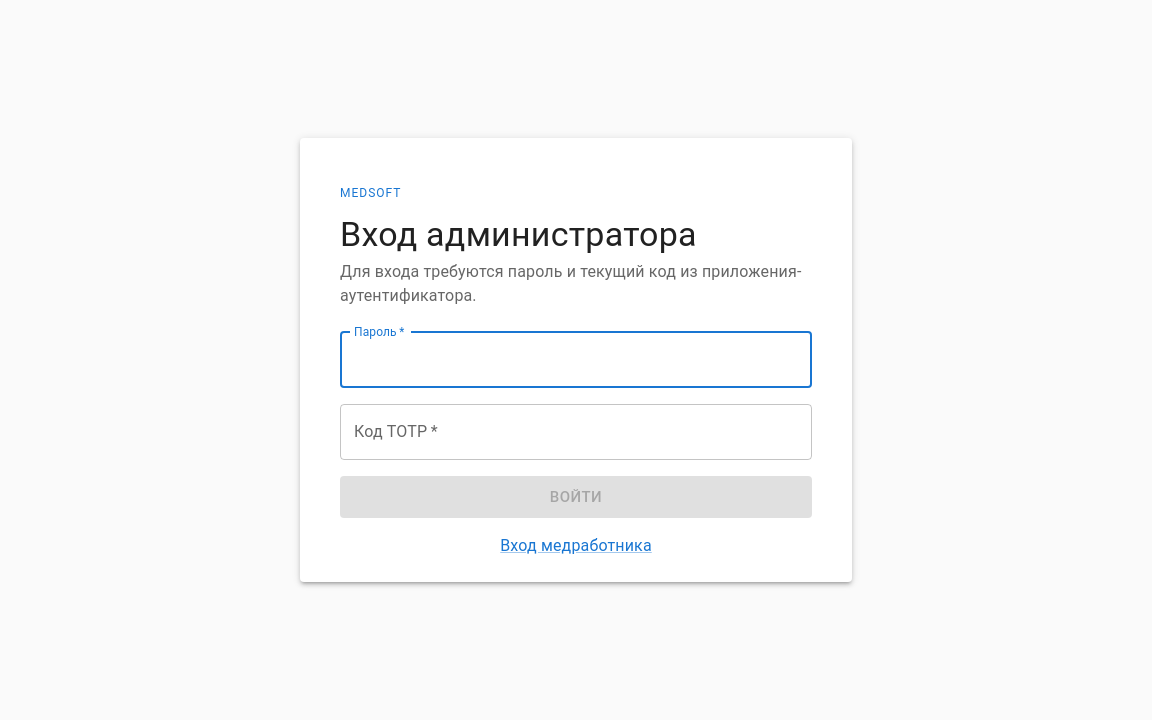
Scenario: authentication interfaces › logs an administrator in only with password and TOTP
In the password field labelled "Пароль *": (576, 360) [340,332,812,388], type "password"
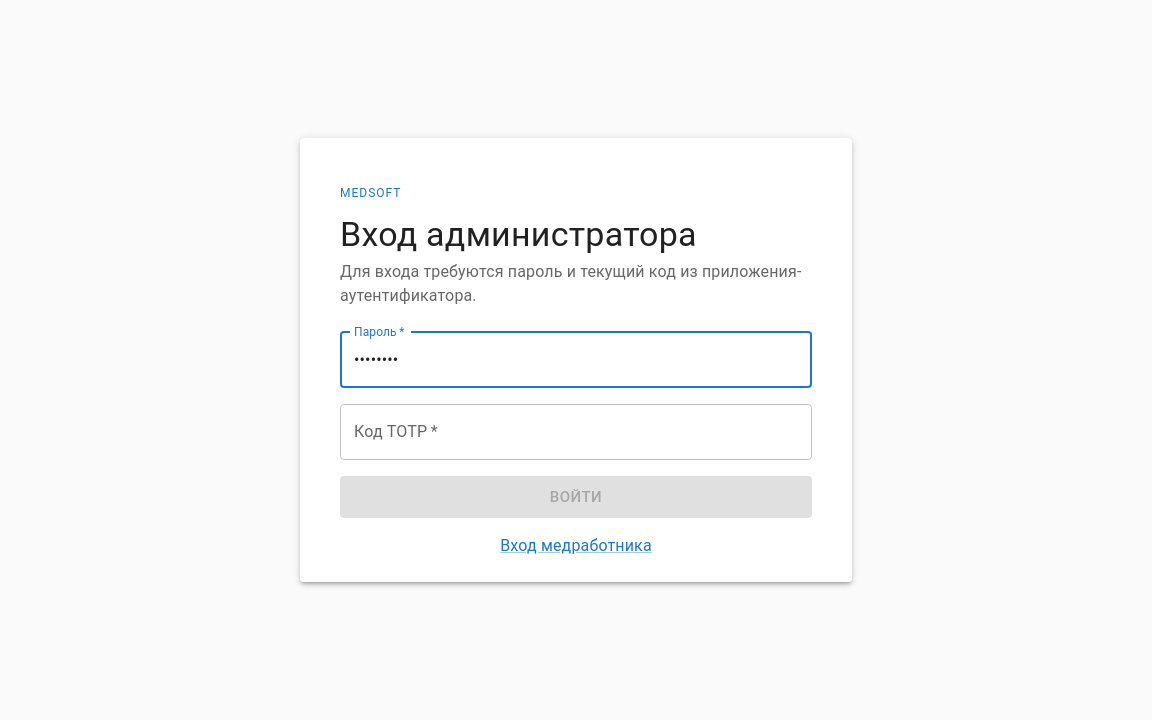
In the field labelled "Код TOTP *": (576, 432) [340,404,812,460], type "000000"
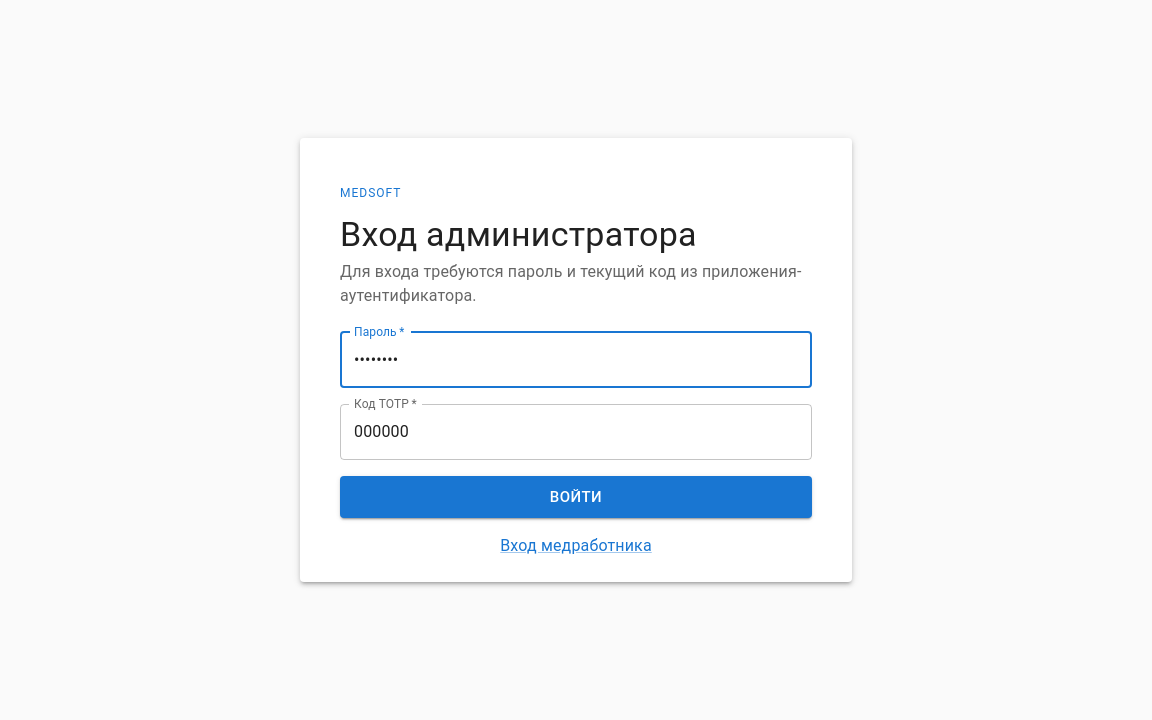
Click the button "Войти": (576, 497) [340,476,812,518]
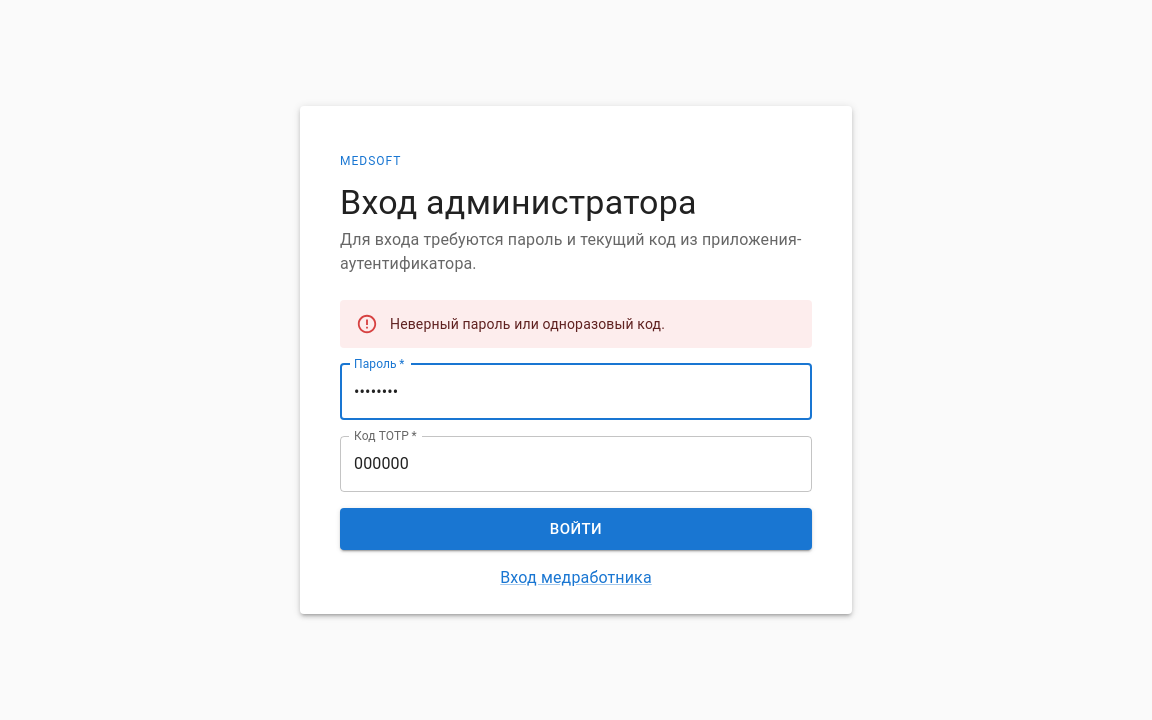
Check: the text "Неверный пароль или одноразовый код." is shown, box [390,316,665,332]
Replace the text in the field labelled "Код TOTP *" with "123456": (576, 464) [340,436,812,492]
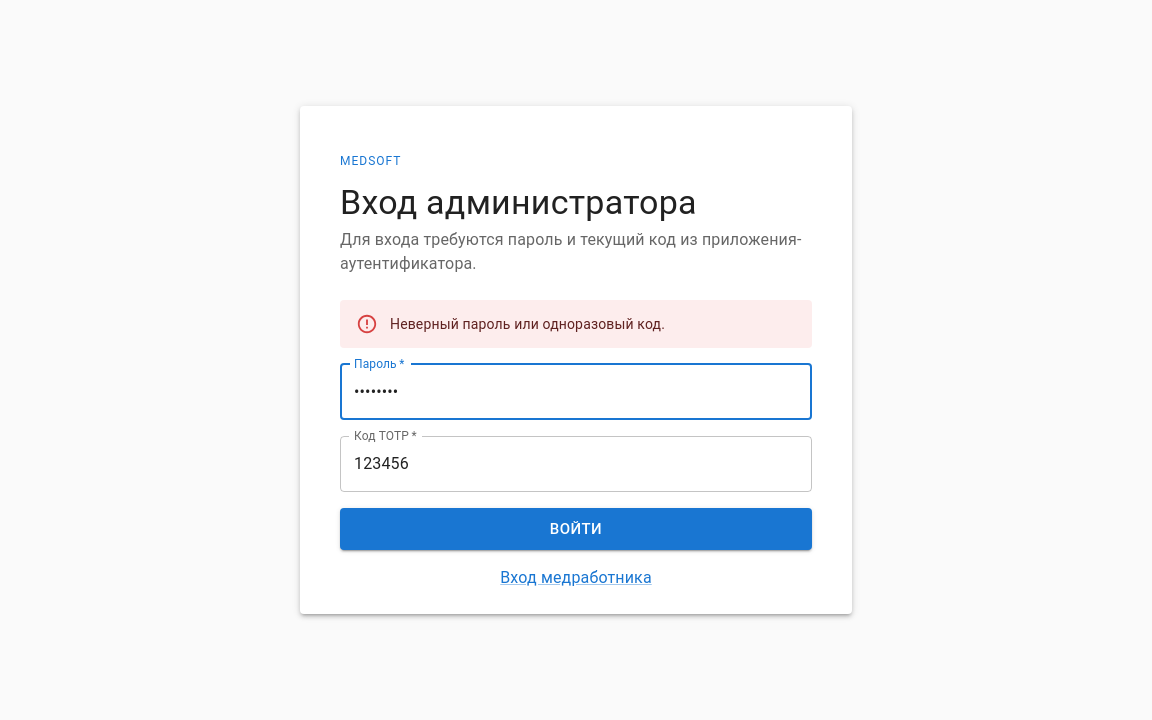
Click the button "Войти": (576, 529) [340,508,812,550]
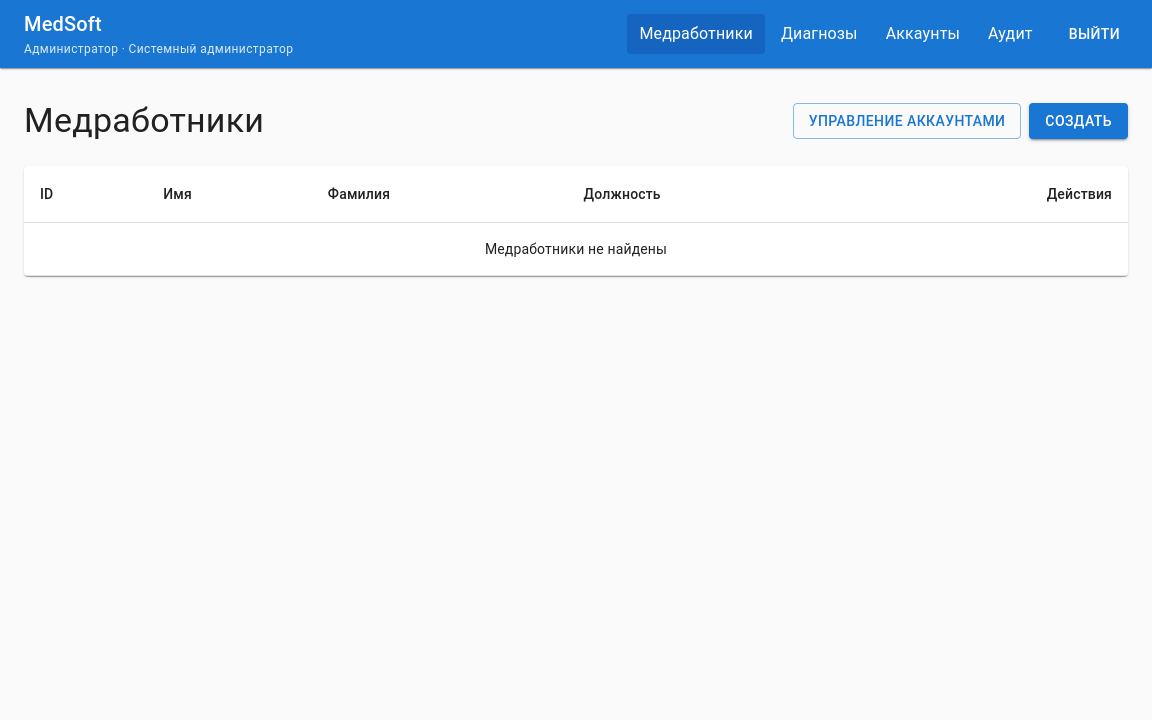
Check: the heading "Медработники" is shown, box [24,100,264,142]
